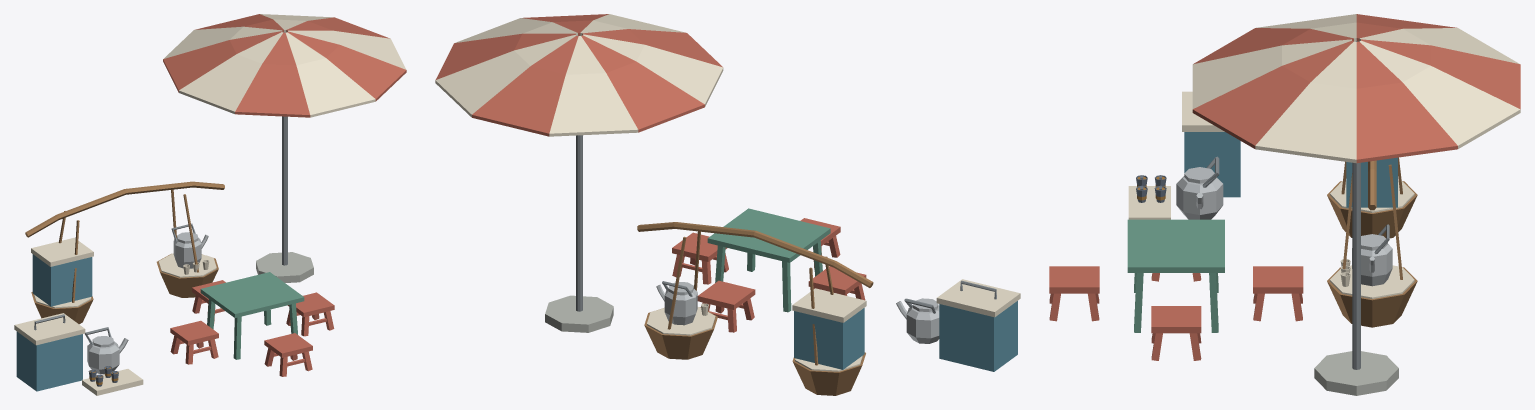
File: SidewalkTeaSpace.glb
3 views of the same model, side by side, from view 1: azimuth 30°, elevation 25°; view 2: azimuth 150°, elevation 25°; view 3: azimuth 270°, elevation 25° (orthographic). The views are drawn at different scales.
Parts seen in each view (by area): view 1: ST_StreetUmbrella_ST_cream.001, ST_StreetUmbrella_ST_red.001, ST_TeaShoulderPole_PBK_Indochine_wood.001, ST_PlasticTableLow_ST_plastic_green.001, ST_Ice_Cooler.001, ST_Carry_Ice_Cooler.001, ST_TeaShoulderPole_ST_cream.001, ST_TeaServiceSet_ST_cream.001, ST_PlasticStoolLow_ST_plastic_red.001, ST_PlasticStoolLow_ST_plastic_red.003, ST_Umbrella_Base.001, ST_PlasticStoolLow_ST_plastic_red.002 (+4 smaller); view 2: ST_StreetUmbrella_ST_red.001, ST_StreetUmbrella_ST_cream.001, ST_TeaShoulderPole_PBK_Indochine_wood.001, ST_PlasticTableLow_ST_plastic_green.001, ST_Ice_Cooler.001, ST_Carry_Ice_Cooler.001, ST_TeaShoulderPole_ST_cream.001, ST_Umbrella_Base.001, ST_TeaServiceSet_ST_cream.001, ST_PlasticStoolLow_ST_plastic_red.004, ST_TeaServiceSet_ST_steel.001, ST_PlasticStoolLow_ST_plastic_red.002 (+4 smaller); view 3: ST_StreetUmbrella_ST_red.001, ST_StreetUmbrella_ST_cream.001, ST_PlasticTableLow_ST_plastic_green.001, ST_TeaShoulderPole_PBK_Indochine_wood.001, ST_Umbrella_Base.001, ST_Ice_Cooler.001, ST_TeaShoulderPole_ST_cream.001, ST_TeaServiceSet_ST_steel.001, ST_PlasticStoolLow_ST_plastic_red.003, ST_PlasticStoolLow_ST_plastic_red.004, ST_PlasticStoolLow_ST_plastic_red.002, ST_TeaServiceSet_ST_cream.001 (+4 smaller).
Part boxes in pixels (x1,y1,x2,y2): ST_StreetUmbrella_ST_cream.001: [164, 14, 406, 117]; ST_StreetUmbrella_ST_red.001: [163, 14, 406, 117]; ST_TeaShoulderPole_PBK_Indochine_wood.001: [25, 181, 224, 324]; ST_PlasticTableLow_ST_plastic_green.001: [200, 272, 304, 359]; ST_Ice_Cooler.001: [16, 331, 82, 391]; ST_Carry_Ice_Cooler.001: [32, 254, 92, 306]; ST_TeaShoulderPole_ST_cream.001: [31, 237, 216, 308]; ST_TeaServiceSet_ST_cream.001: [14, 313, 143, 395]; ST_PlasticStoolLow_ST_plastic_red.001: [170, 320, 218, 364]; ST_PlasticStoolLow_ST_plastic_red.003: [264, 333, 312, 376]; ST_Umbrella_Base.001: [256, 252, 313, 282]; ST_PlasticStoolLow_ST_plastic_red.002: [286, 292, 334, 336]; ST_StreetUmbrella_ST_red.001: [435, 14, 722, 136]; ST_StreetUmbrella_ST_cream.001: [435, 14, 723, 136]; ST_TeaShoulderPole_PBK_Indochine_wood.001: [637, 222, 873, 395]; ST_PlasticTableLow_ST_plastic_green.001: [707, 208, 830, 312]; ST_Ice_Cooler.001: [939, 301, 1017, 371]; ST_Carry_Ice_Cooler.001: [794, 308, 864, 369]; ST_TeaShoulderPole_ST_cream.001: [647, 288, 866, 371]; ST_Umbrella_Base.001: [545, 295, 613, 332]; ST_TeaServiceSet_ST_cream.001: [936, 279, 1020, 317]; ST_PlasticStoolLow_ST_plastic_red.004: [697, 280, 755, 332]; ST_TeaServiceSet_ST_steel.001: [896, 298, 939, 343]; ST_PlasticStoolLow_ST_plastic_red.002: [672, 232, 728, 284]; ST_StreetUmbrella_ST_red.001: [1192, 14, 1520, 163]; ST_StreetUmbrella_ST_cream.001: [1192, 14, 1520, 163]; ST_PlasticTableLow_ST_plastic_green.001: [1127, 219, 1224, 332]; ST_TeaShoulderPole_PBK_Indochine_wood.001: [1327, 157, 1417, 327]; ST_Umbrella_Base.001: [1314, 351, 1398, 395]; ST_Ice_Cooler.001: [1184, 132, 1240, 197]; ST_TeaShoulderPole_ST_cream.001: [1330, 180, 1414, 298]; ST_TeaServiceSet_ST_steel.001: [1176, 167, 1223, 219]; ST_PlasticStoolLow_ST_plastic_red.003: [1049, 266, 1099, 321]; ST_PlasticStoolLow_ST_plastic_red.004: [1253, 266, 1303, 321]; ST_PlasticStoolLow_ST_plastic_red.002: [1151, 306, 1201, 360]; ST_TeaServiceSet_ST_cream.001: [1128, 91, 1224, 219].
Bounding box in the file's own units: 4.33 × 2.38 × 3.01.
